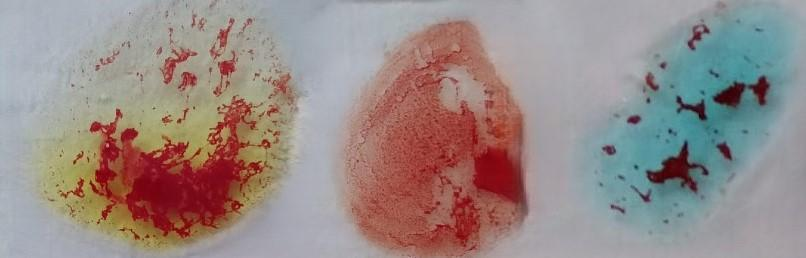A: (611, 7, 771, 246)
B: (58, 10, 296, 249)
D: (353, 22, 525, 258)
